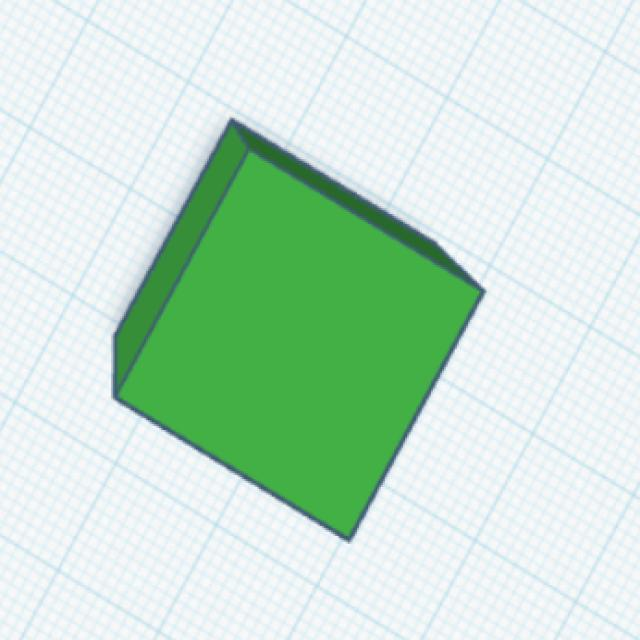cube: (108, 114, 490, 546)
